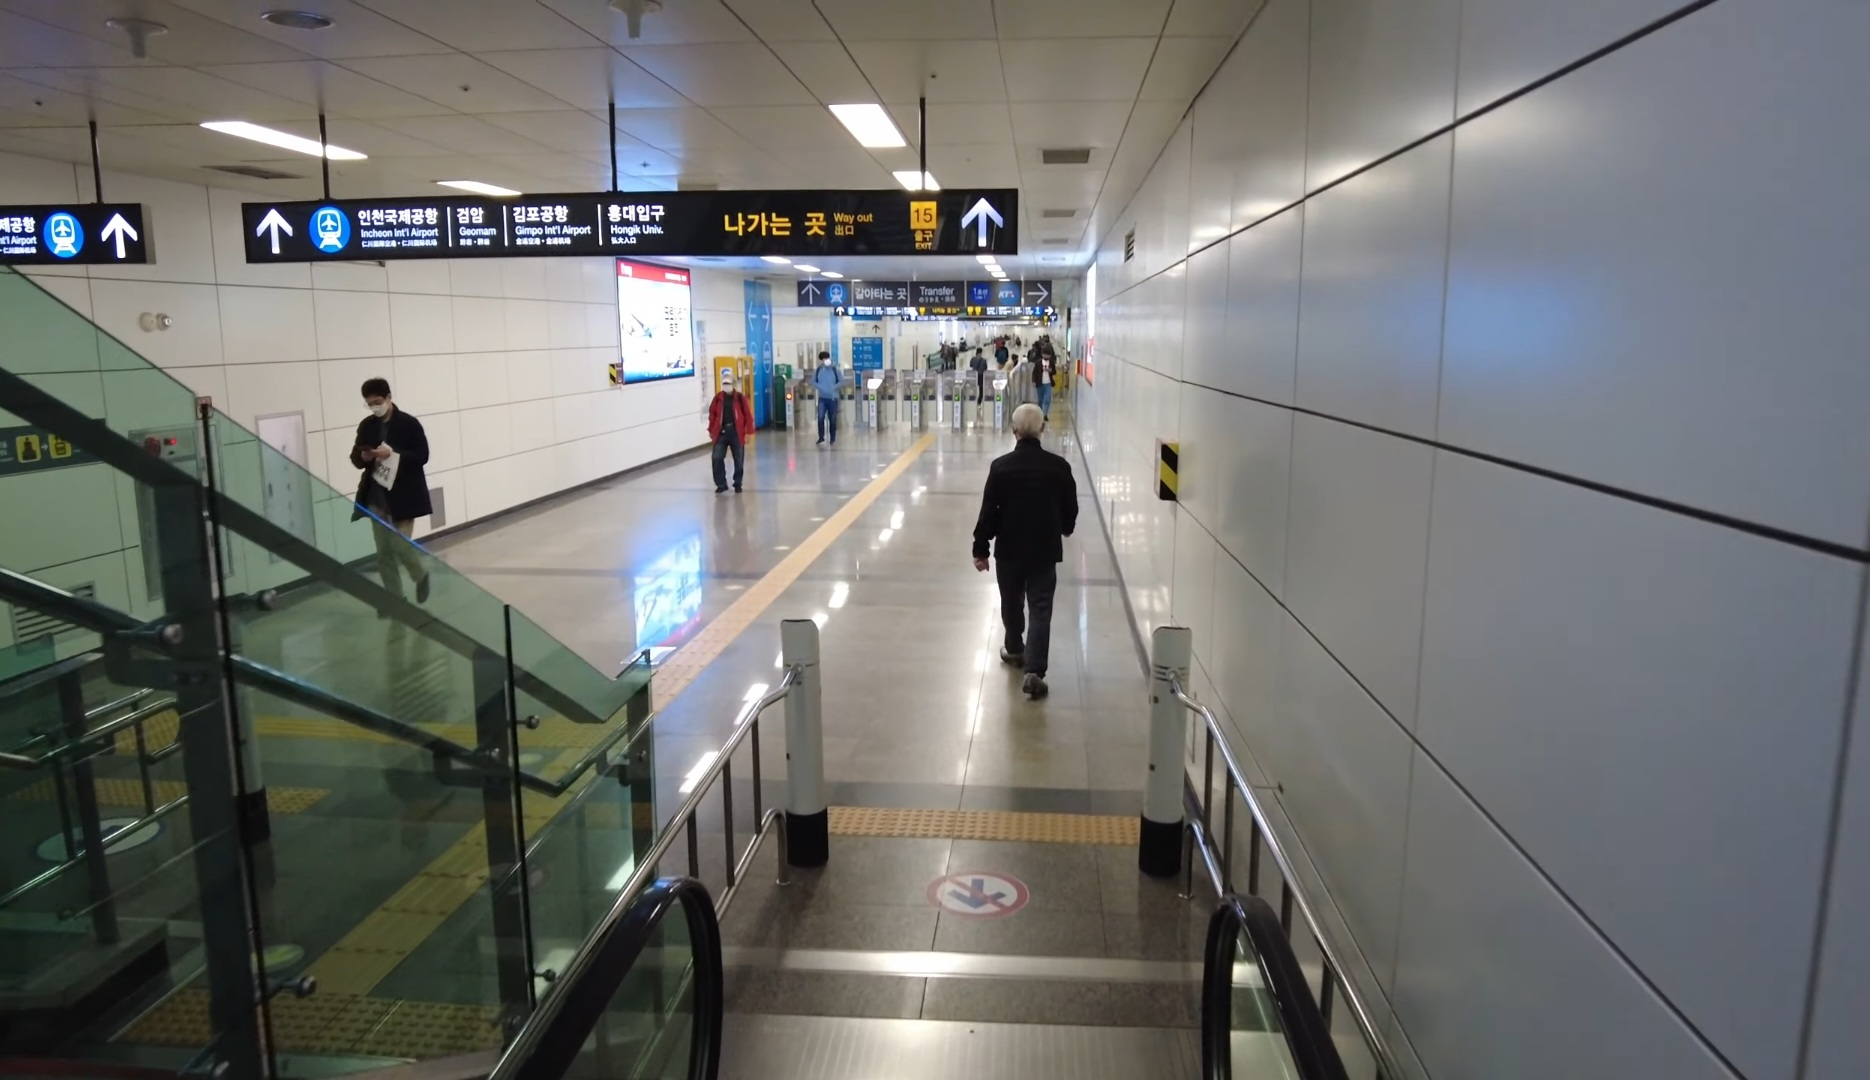signBoard: (233, 184, 1032, 273)
